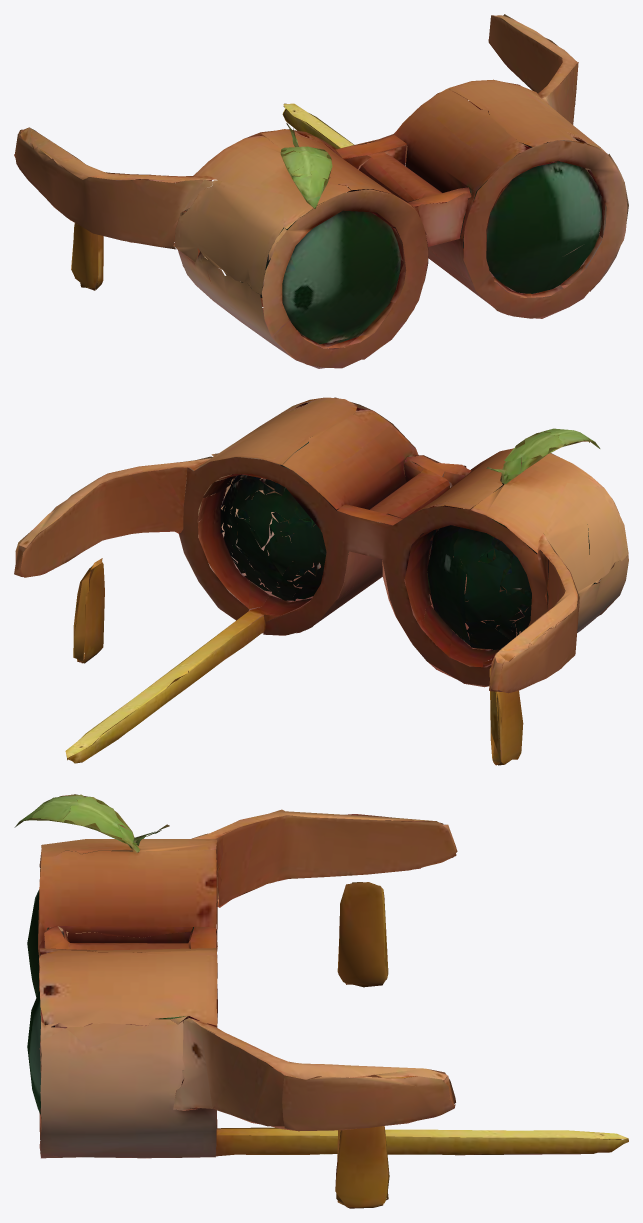
Rendered from leaf_shades.glb.
The picture shows the model from 3 angles, top to bottom: view 1: azimuth 30°, elevation 25°; view 2: azimuth 150°, elevation 25°; view 3: azimuth 270°, elevation 25°; orthographic projection. The views are drawn at different scales.
Parts seen in each view (by area): view 1: low; view 2: low; view 3: low.
Part boxes in pixels (x1,y1,x2,y2): low: (14, 14, 628, 368); low: (14, 397, 628, 765); low: (14, 794, 628, 1208).
Size of the model in its own units: 4.94 by 2.01 by 4.87.
Materials: 1 (1 with a texture image).
